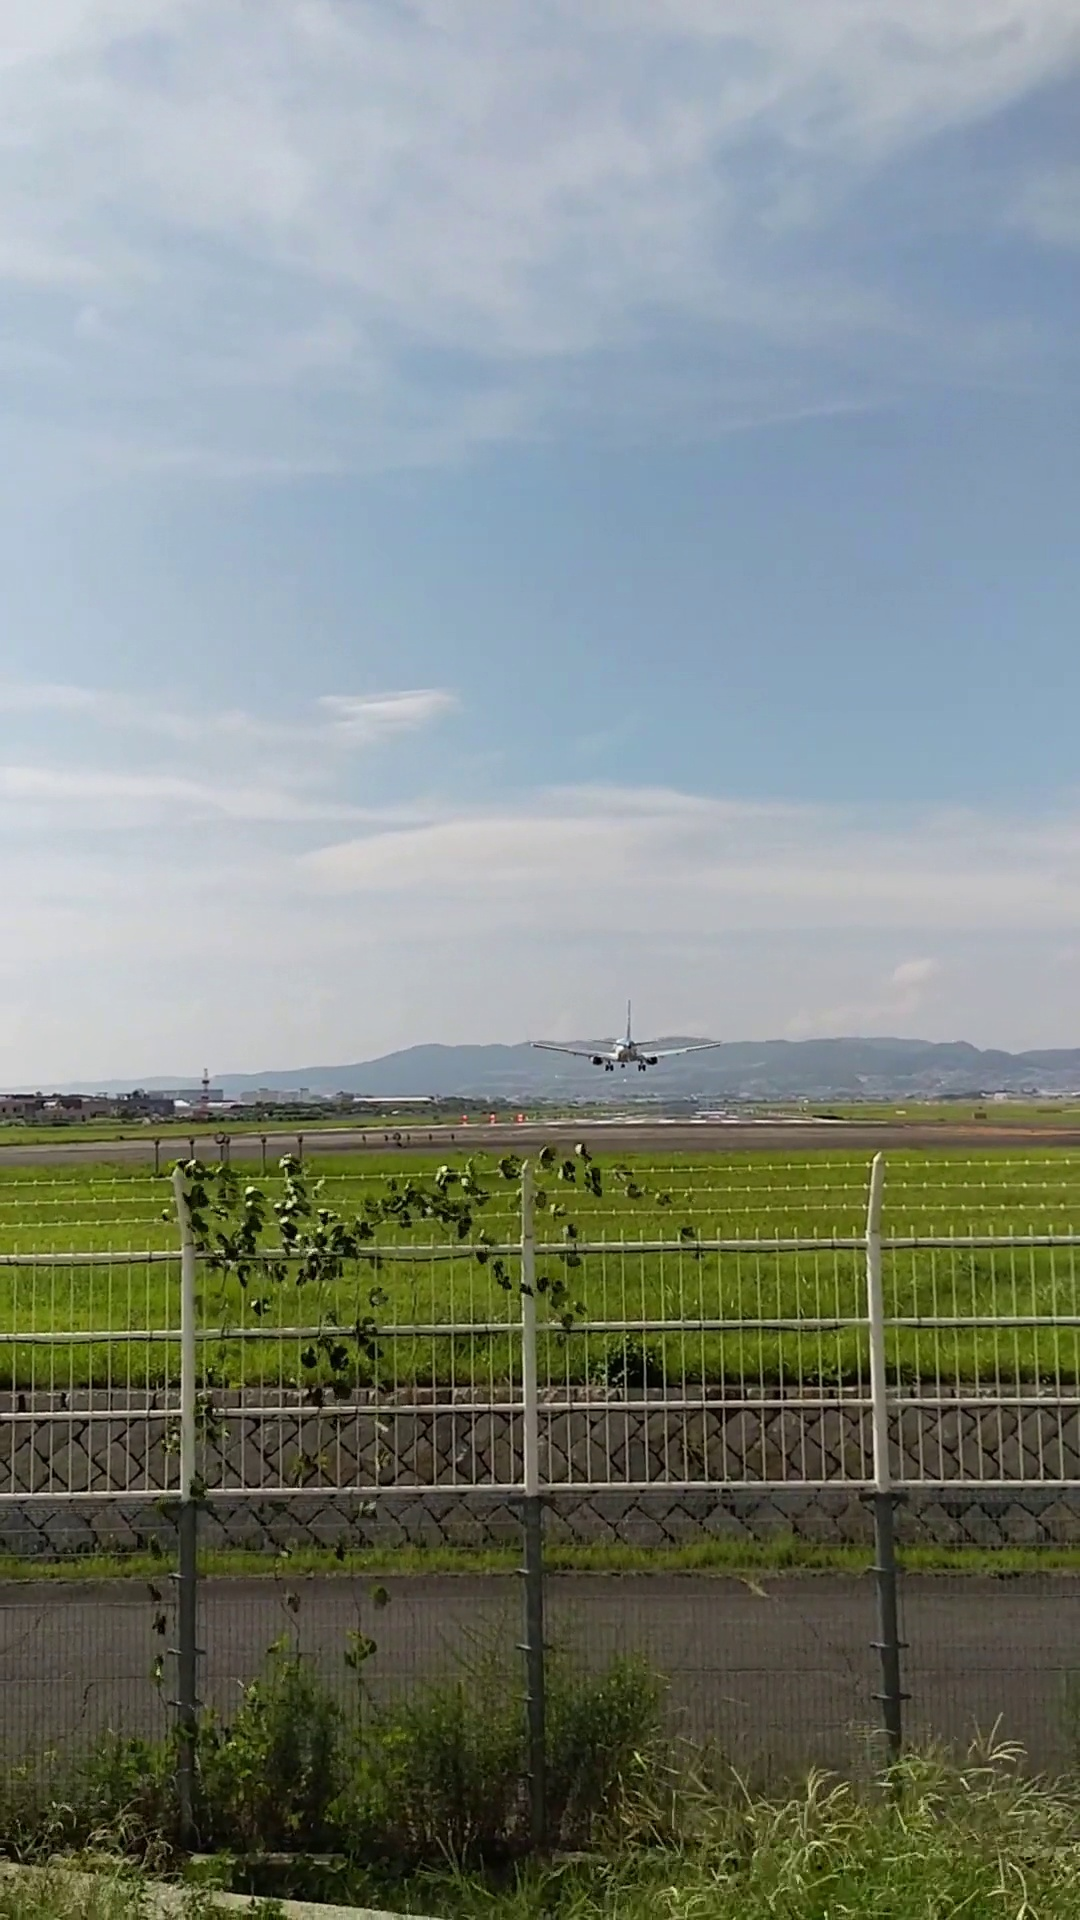plane: (526, 1000, 721, 1072)
